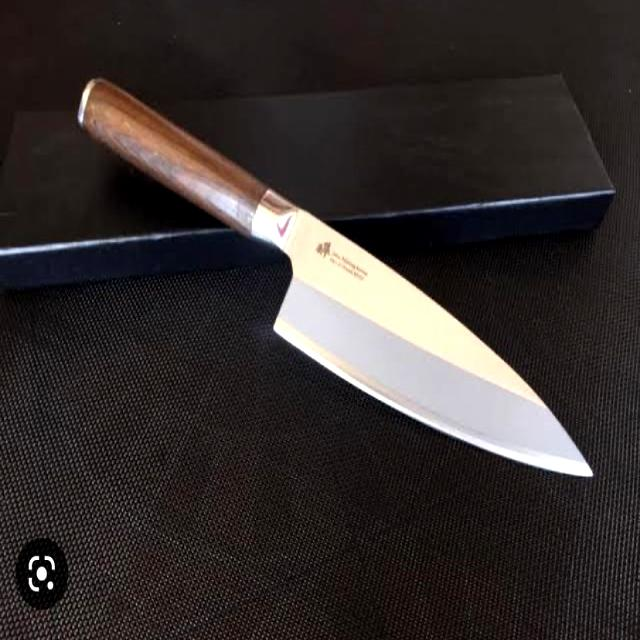knife: (71, 56, 598, 488)
